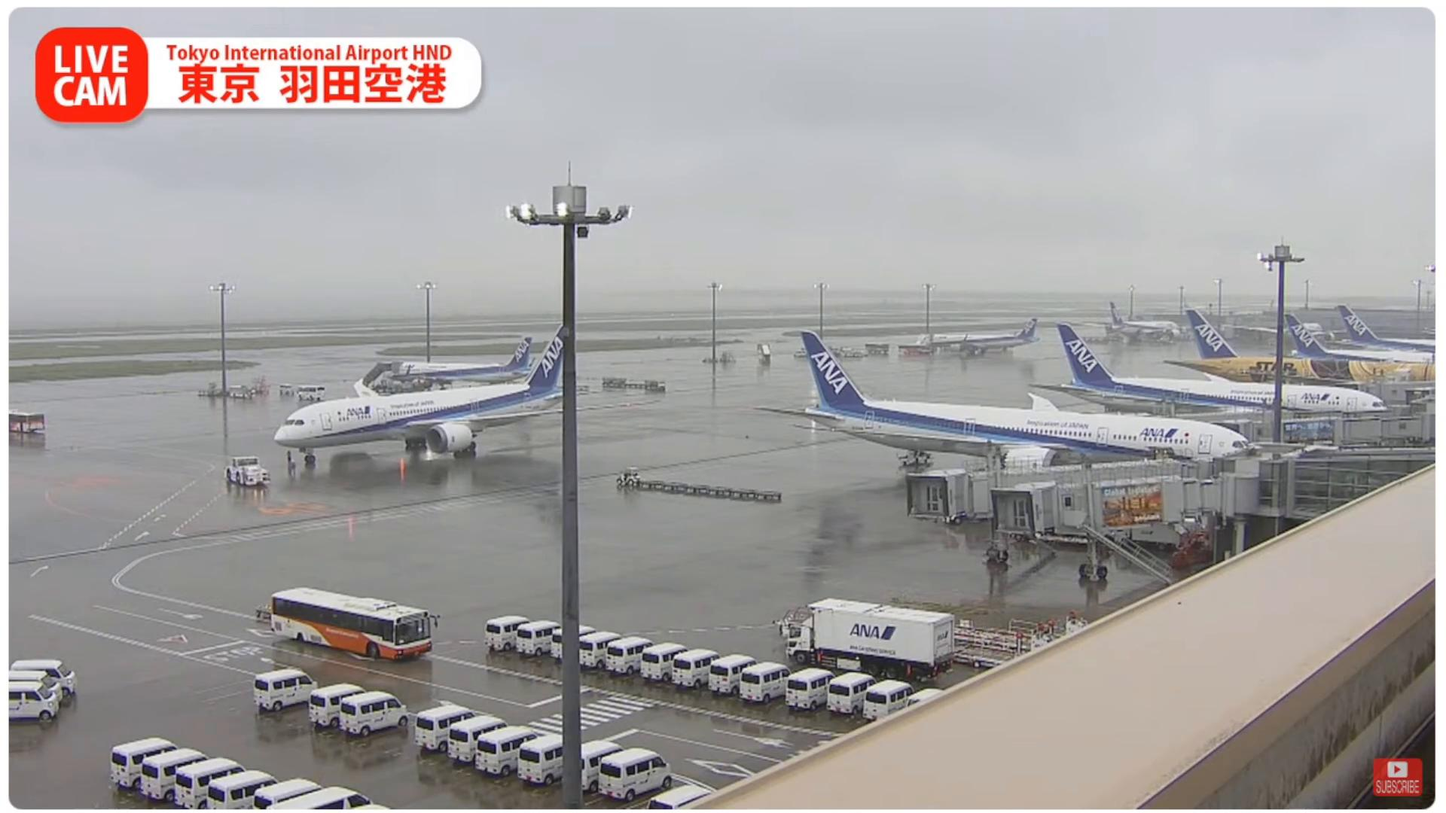APS: (224, 455, 271, 485)
Aerobridge: (906, 439, 1210, 564), (990, 453, 1261, 590)
Airplane: (274, 322, 662, 464)
Catering: (786, 597, 955, 680)
Dolly: (638, 478, 782, 502)
JCPL: (953, 616, 1091, 656), (954, 625, 1046, 670)
Tractor: (617, 467, 642, 488)
Window: (1293, 452, 1436, 515)
